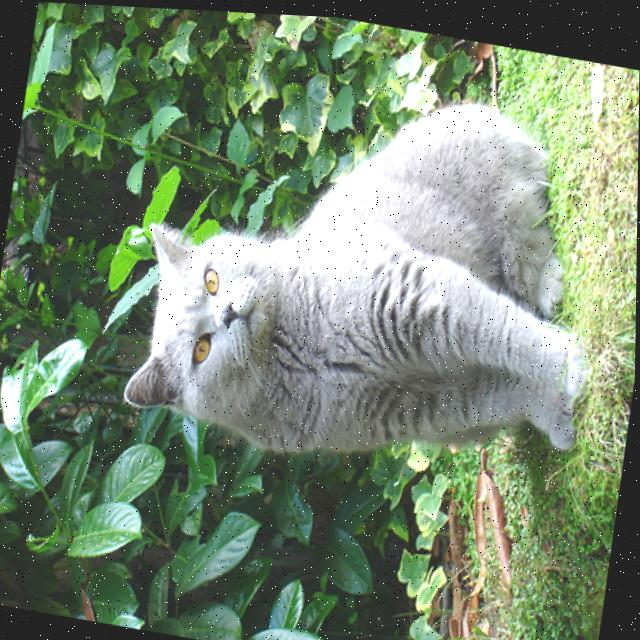British Shorthair: (119, 44, 624, 503)
